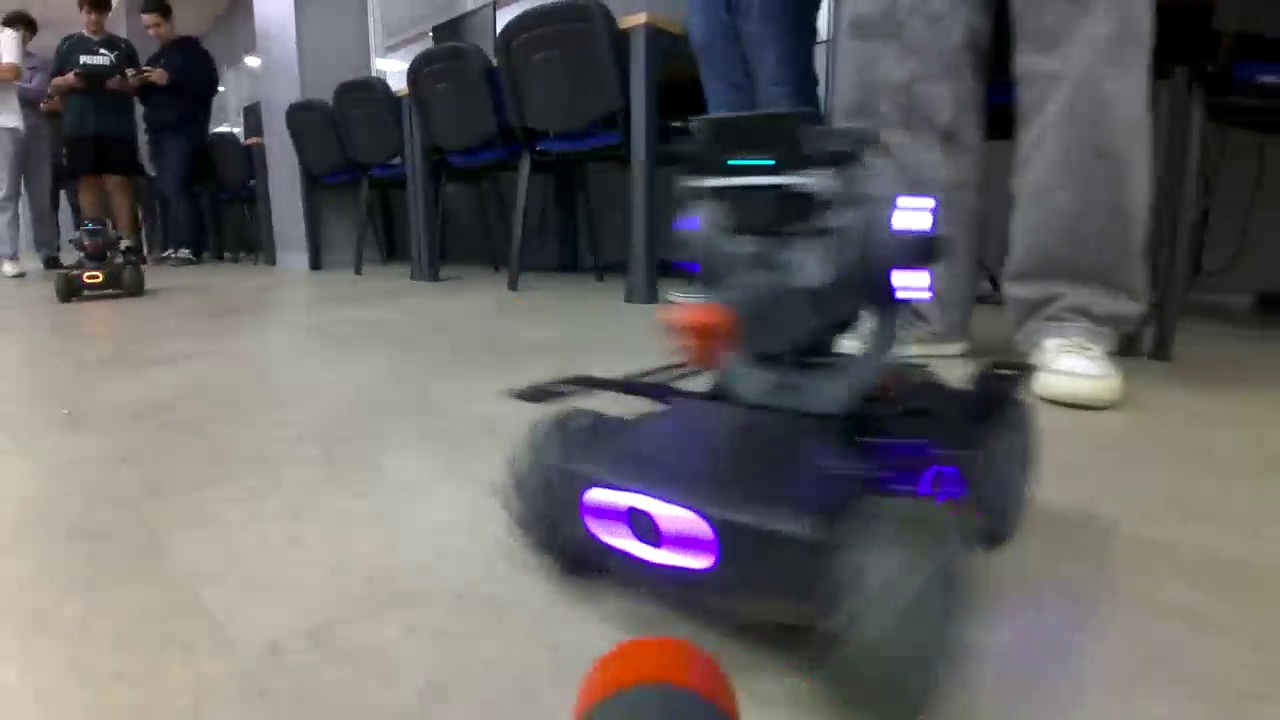robot: (505, 110, 1035, 720), (50, 205, 150, 322)
